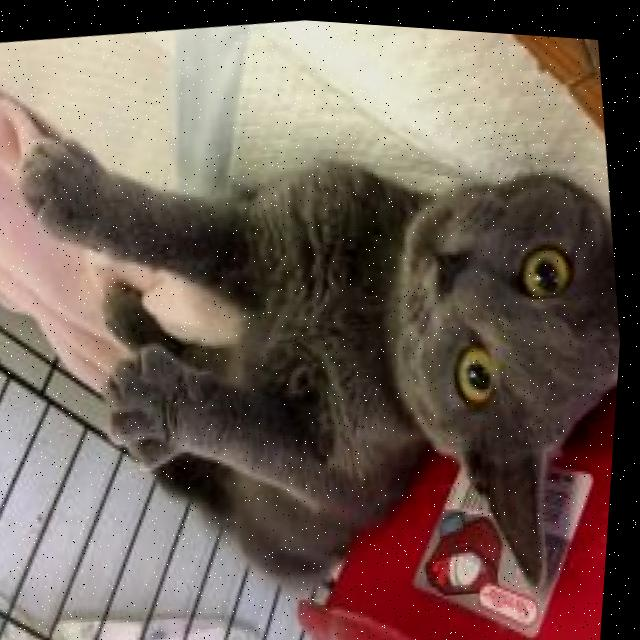Russian Blue: (0, 53, 637, 640)
